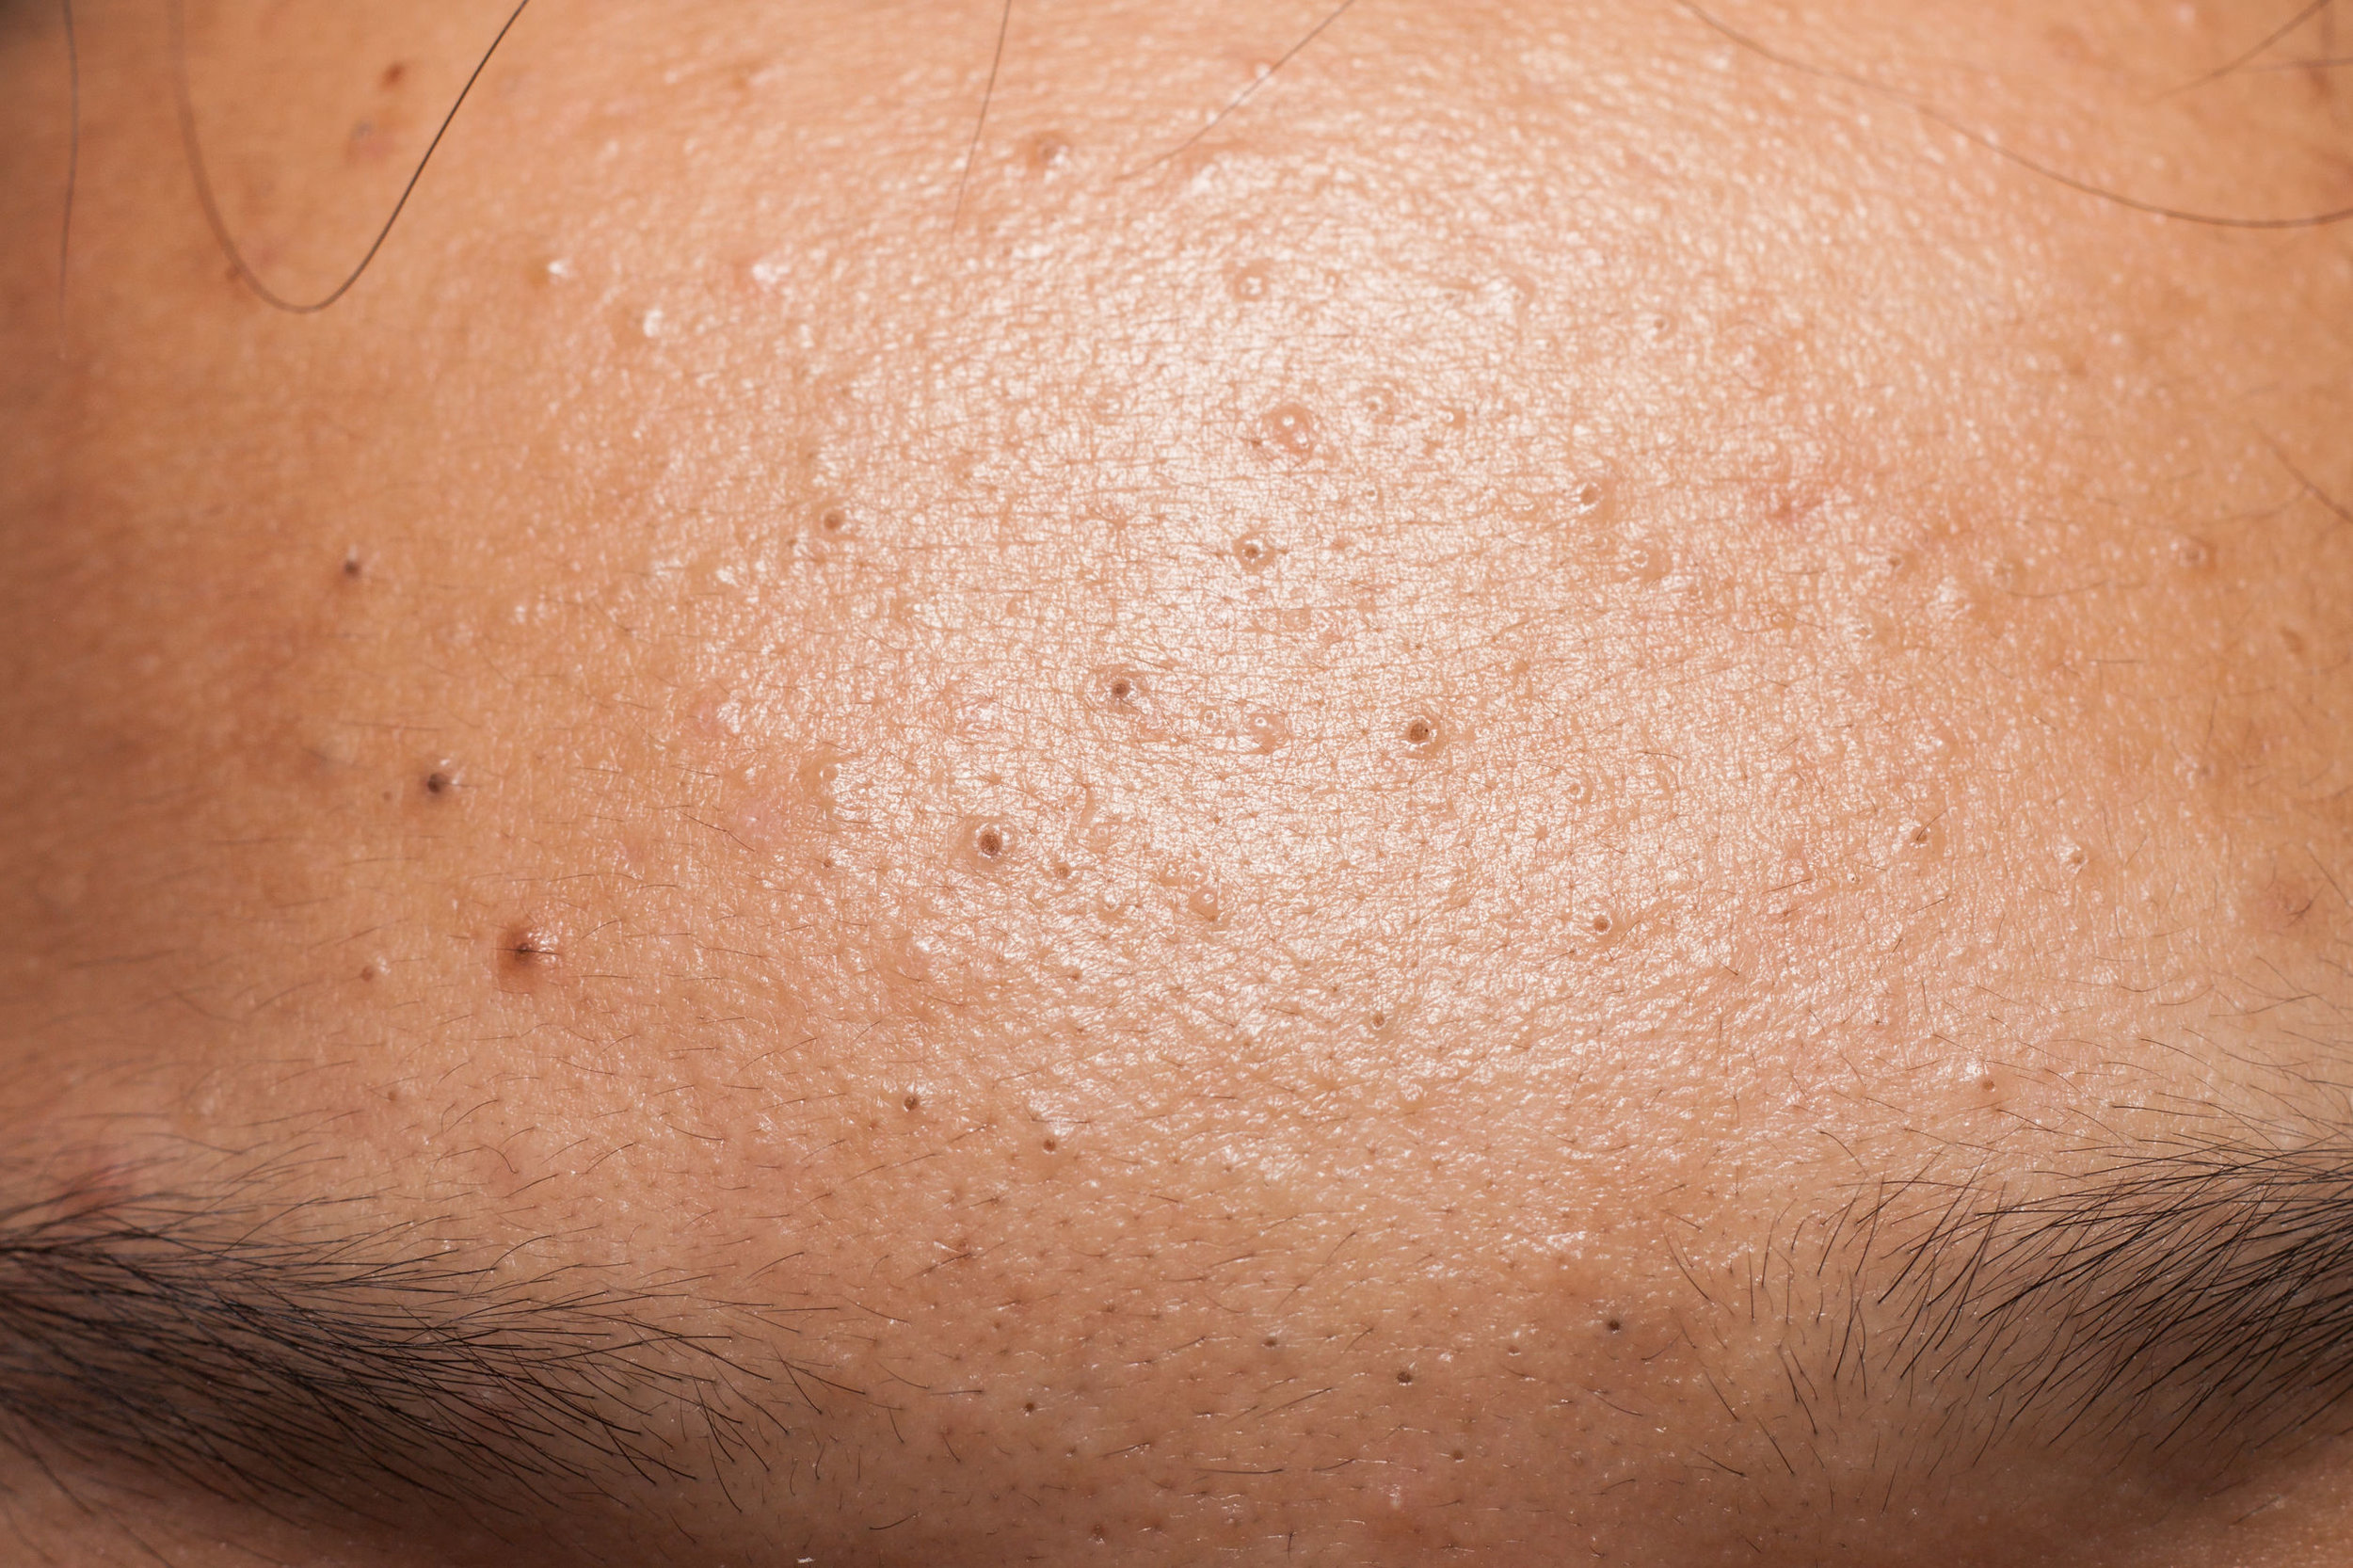jerawat: (1377, 698, 1456, 773), (1081, 658, 1153, 717), (1009, 128, 1085, 184), (322, 539, 388, 597), (492, 926, 560, 982), (1555, 471, 1616, 532), (402, 752, 469, 808), (1261, 397, 1323, 457), (1230, 520, 1281, 586), (2157, 535, 2224, 584), (962, 815, 1018, 873), (614, 296, 672, 350), (1574, 896, 1629, 950), (1022, 1125, 1076, 1178), (885, 1080, 939, 1125), (810, 495, 859, 544), (1961, 1062, 2008, 1109), (1898, 812, 1942, 863), (1594, 1297, 1636, 1349), (1872, 544, 1923, 586), (1359, 1003, 1412, 1043), (1228, 266, 1274, 308), (2185, 747, 2225, 793), (527, 250, 572, 290), (1044, 854, 1085, 894), (735, 252, 779, 289), (1183, 877, 1221, 917), (348, 950, 387, 990), (2064, 840, 2092, 877), (1386, 1363, 1424, 1388), (1253, 1332, 1286, 1360), (1443, 1442, 1473, 1472), (1018, 1395, 1043, 1423)
